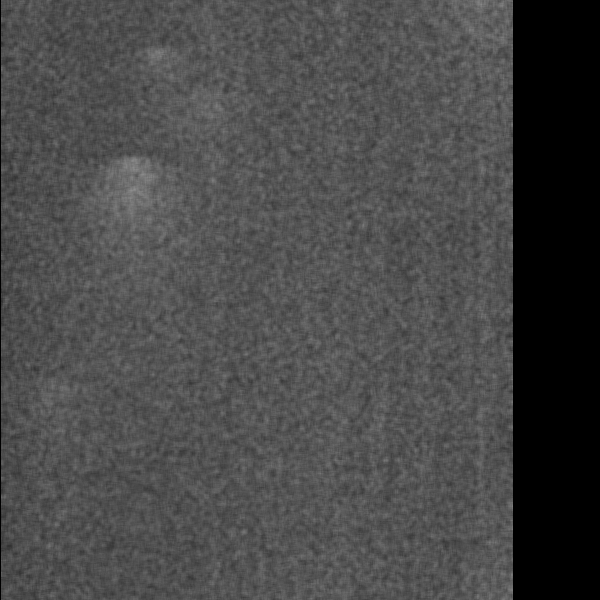spark: (95, 144, 141, 307)
